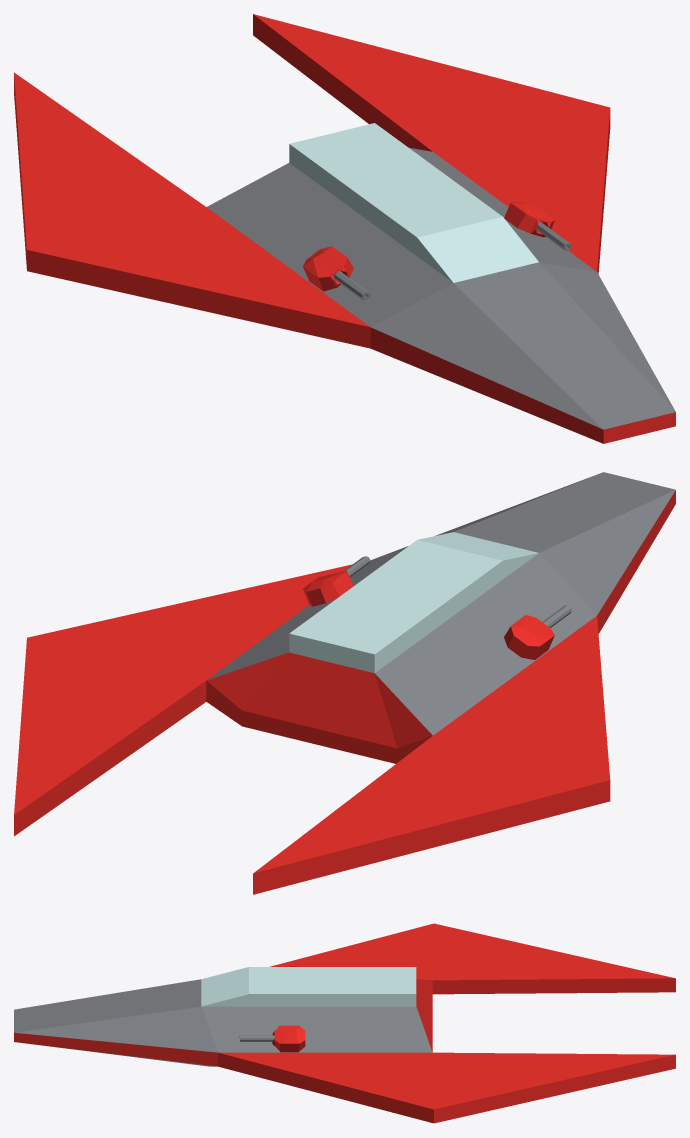
Rendered from drone_7_1.gltf.
3 renders of one model, top to bottom at view 1: azimuth 30°, elevation 25°; view 2: azimuth 150°, elevation 25°; view 3: azimuth 270°, elevation 25°, orthographic. The views are drawn at different scales.
Parts seen in each view (by area): view 1: 7.001; view 2: 7.001; view 3: 7.001.
Part boxes in pixels (<box>): 7.001: <box>14,14,675,443</box>; 7.001: <box>14,472,675,894</box>; 7.001: <box>14,923,675,1123</box>.
Bounding box in the file's own units: 4.91 × 0.7424 × 7.38.
Materials: 1 (1 with a texture image).
